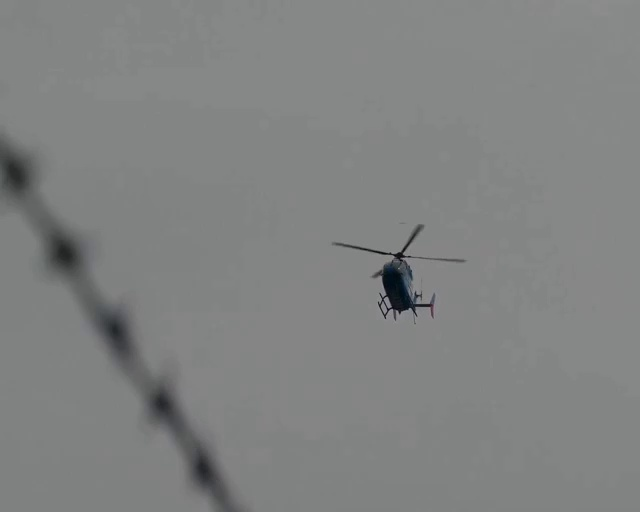HELICOPTER: (330, 222, 467, 324)
